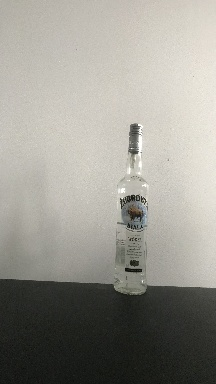butelka: (112, 121, 150, 297)
